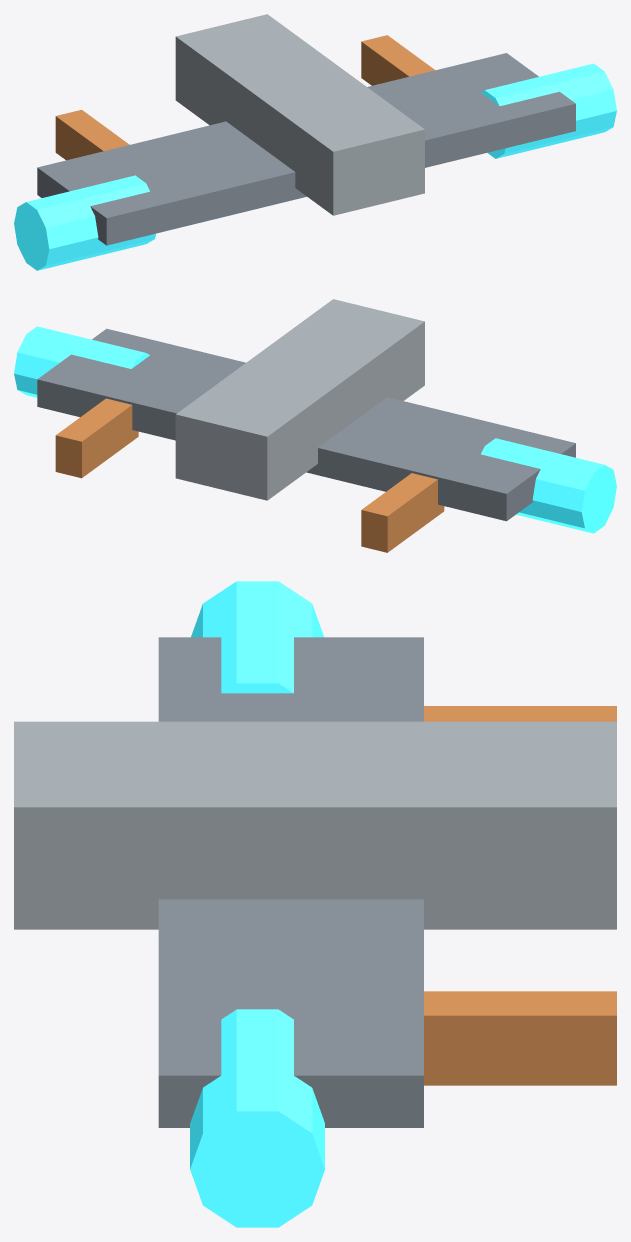
File: viking.glb
The picture shows the model from 3 angles, top to bottom: view 1: azimuth 30°, elevation 25°; view 2: azimuth 150°, elevation 25°; view 3: azimuth 270°, elevation 25°; orthographic projection. The views are drawn at different scales.
Parts seen in each view (by area): view 1: detail_001, detail_000, detail_002, detail_004, detail_003, detail_005; view 2: detail_000, detail_001, detail_002, detail_005, detail_003, detail_004; view 3: detail_000, detail_001, detail_004, detail_005, detail_002, detail_003.
Part boxes in pixels (x1,y1,x2,y2): detail_001: [37, 53, 575, 245]; detail_000: [175, 14, 424, 215]; detail_002: [14, 175, 155, 270]; detail_004: [481, 63, 616, 158]; detail_003: [55, 109, 129, 160]; detail_005: [361, 35, 434, 85]; detail_000: [175, 299, 424, 500]; detail_001: [37, 328, 575, 521]; detail_002: [481, 438, 616, 533]; detail_005: [55, 398, 138, 478]; detail_003: [361, 473, 444, 552]; detail_004: [14, 326, 149, 397]; detail_000: [14, 721, 616, 929]; detail_001: [158, 637, 423, 1127]; detail_004: [190, 1009, 324, 1227]; detail_005: [424, 991, 616, 1085]; detail_002: [191, 581, 323, 693]; detail_003: [424, 706, 616, 721].
Size of the model in its own units: 2.6 by 0.4531 by 1.25.
